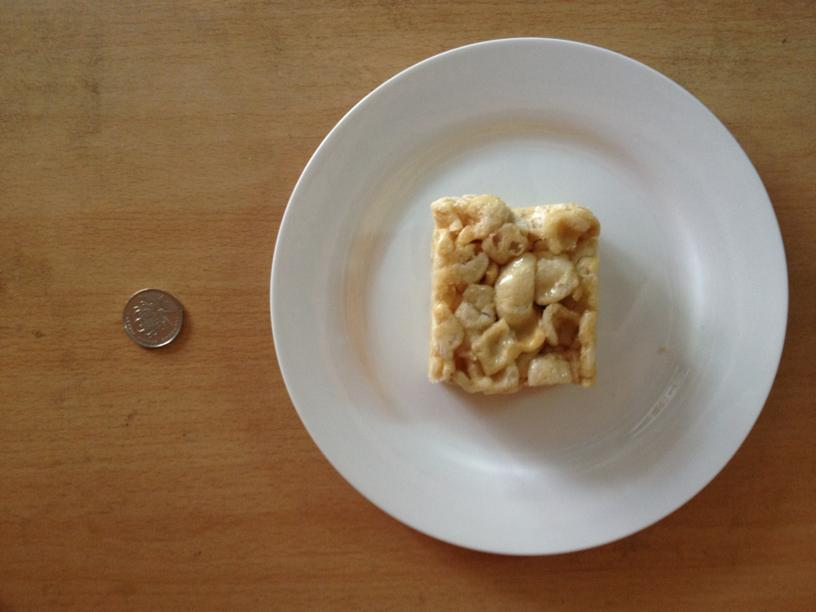coin: (123, 289, 183, 350)
sachima: (426, 195, 599, 394)
